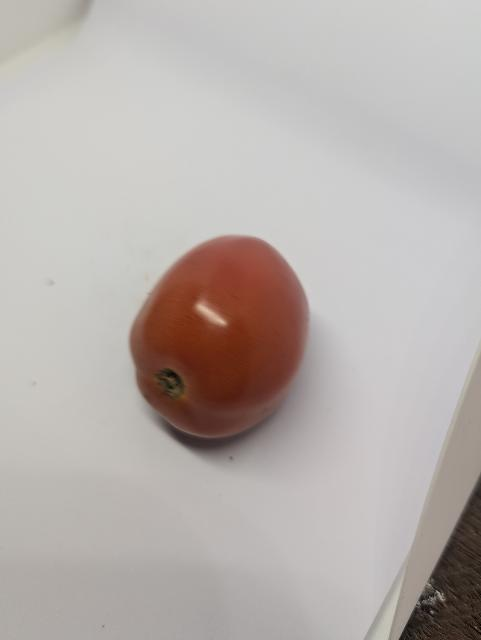red: (128, 232, 321, 448)
